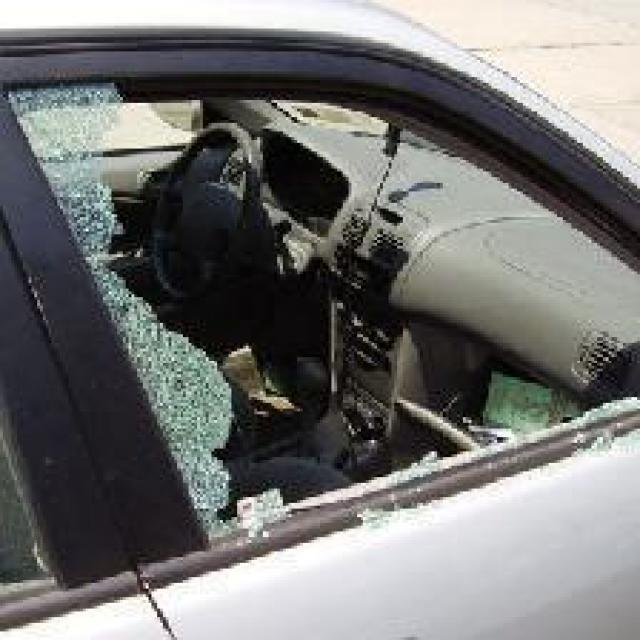damaged: (5, 83, 638, 540)
